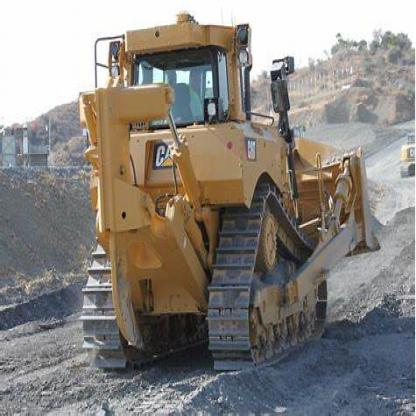bull_dozer/loader/grader: (62, 1, 415, 414)
